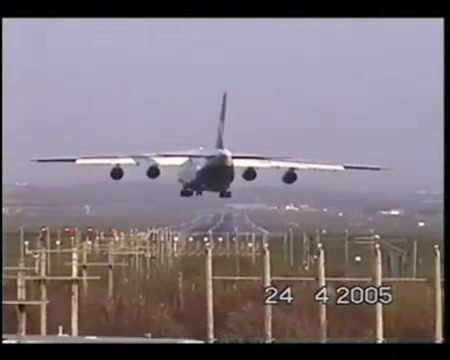aeroplane: (30, 91, 396, 200)
